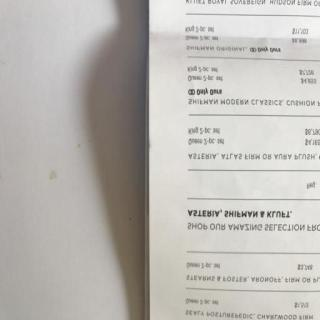Anorganik: (147, 0, 319, 320)
